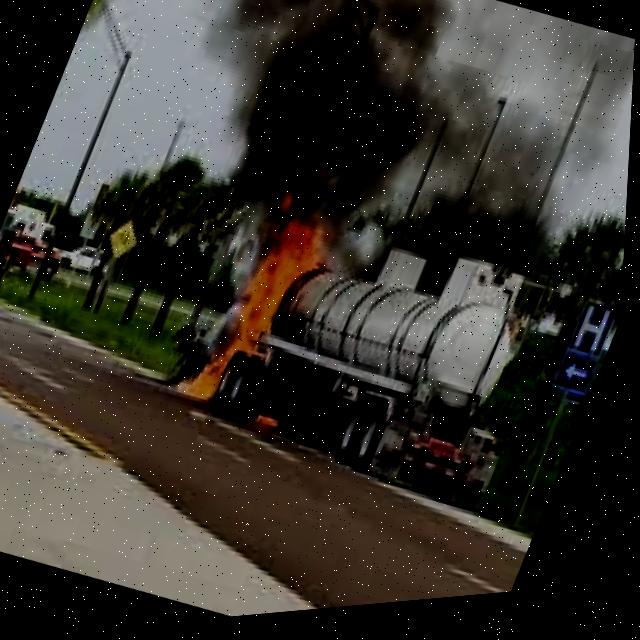Fire: (187, 191, 355, 420)
Smoke: (170, 0, 636, 337)
